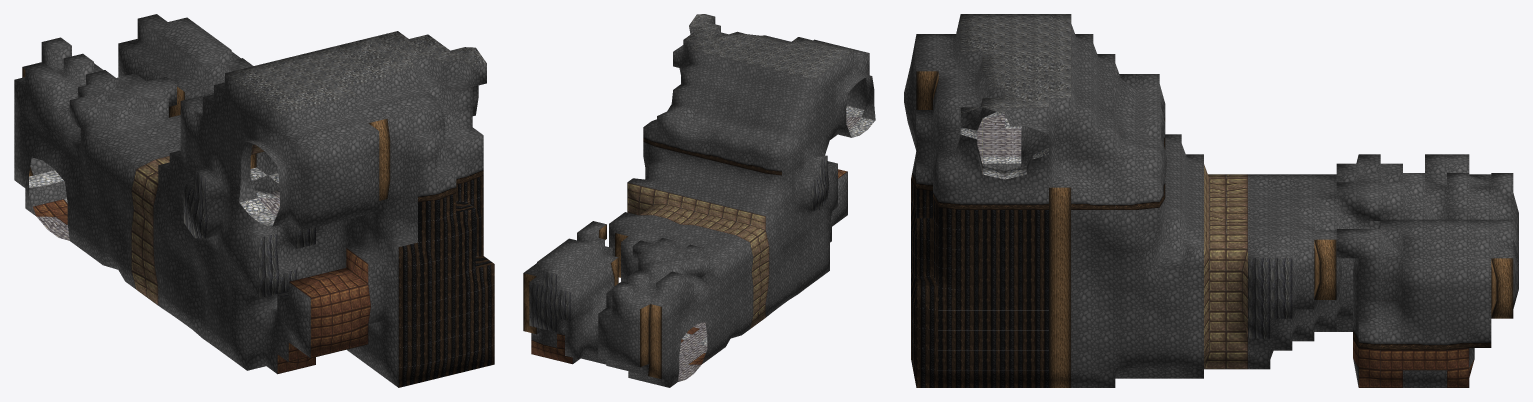
The model's file is 2nd Instance LightMap.FBX.
The picture shows the model from 3 angles, left to right: view 1: azimuth 30°, elevation 25°; view 2: azimuth 150°, elevation 25°; view 3: azimuth 270°, elevation 25°; orthographic projection. The views are drawn at different scales.
Visible parts, largest first — view 1: SecondInstance; view 2: SecondInstance; view 3: SecondInstance.
Boxes of the visible parts, box(x1,y1,x2,y2) form: SecondInstance: box(14, 14, 494, 387); SecondInstance: box(523, 14, 875, 387); SecondInstance: box(904, 14, 1518, 387).
Bounding box in the file's own units: 12 × 14.63 × 27.81.
